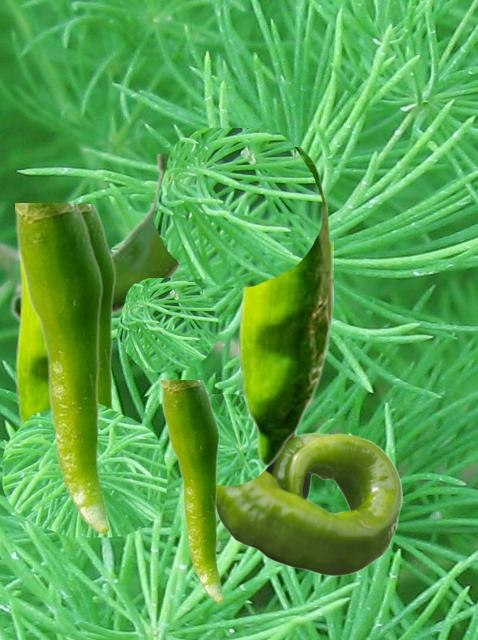green_chili: (217, 394, 401, 575), (15, 203, 107, 533), (238, 147, 332, 465), (9, 154, 182, 324), (161, 380, 222, 602), (79, 204, 117, 408), (15, 254, 48, 426)
